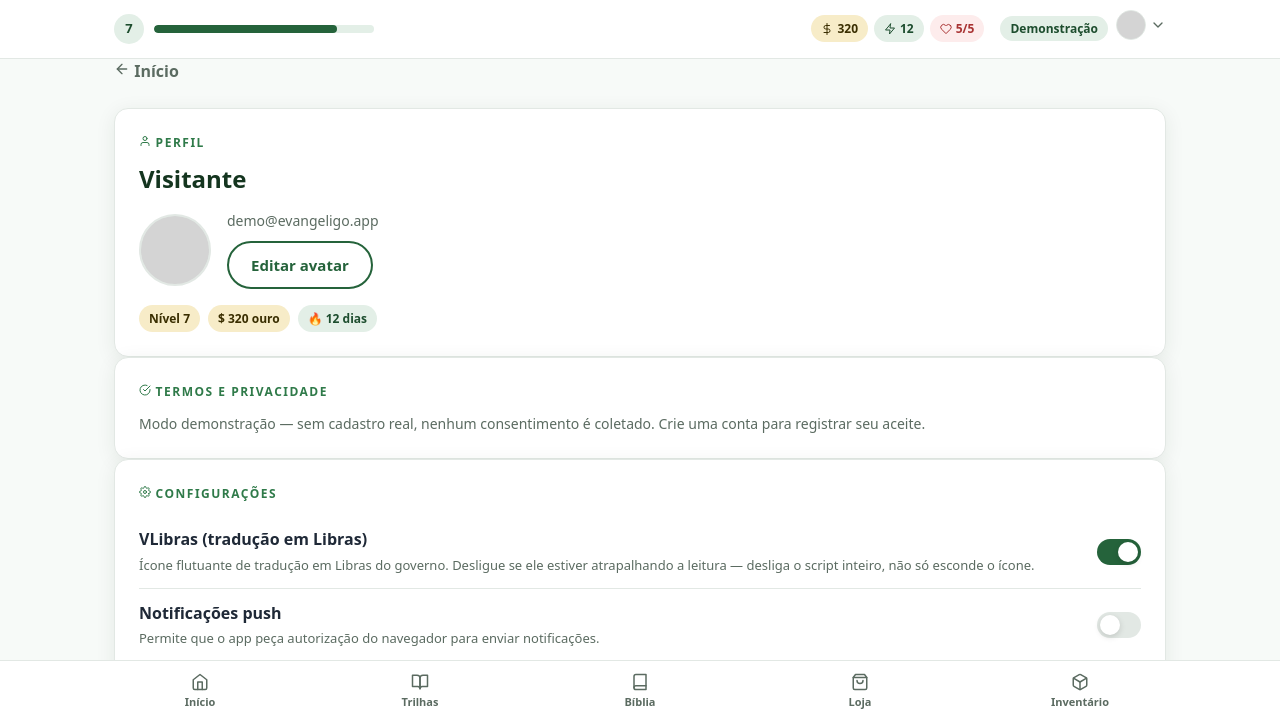
Test: ProfilePage › switch do VLibras › vem ligado por padrão e desliga a preferência salva ao clicar, avisando que precisa recarregar
This screenshot has width=1280, height=720.
Click the switch named "VLibras (tradução em Libras)".
click(1119, 552)  # box [1097, 538, 1141, 564]
(page scrolled)
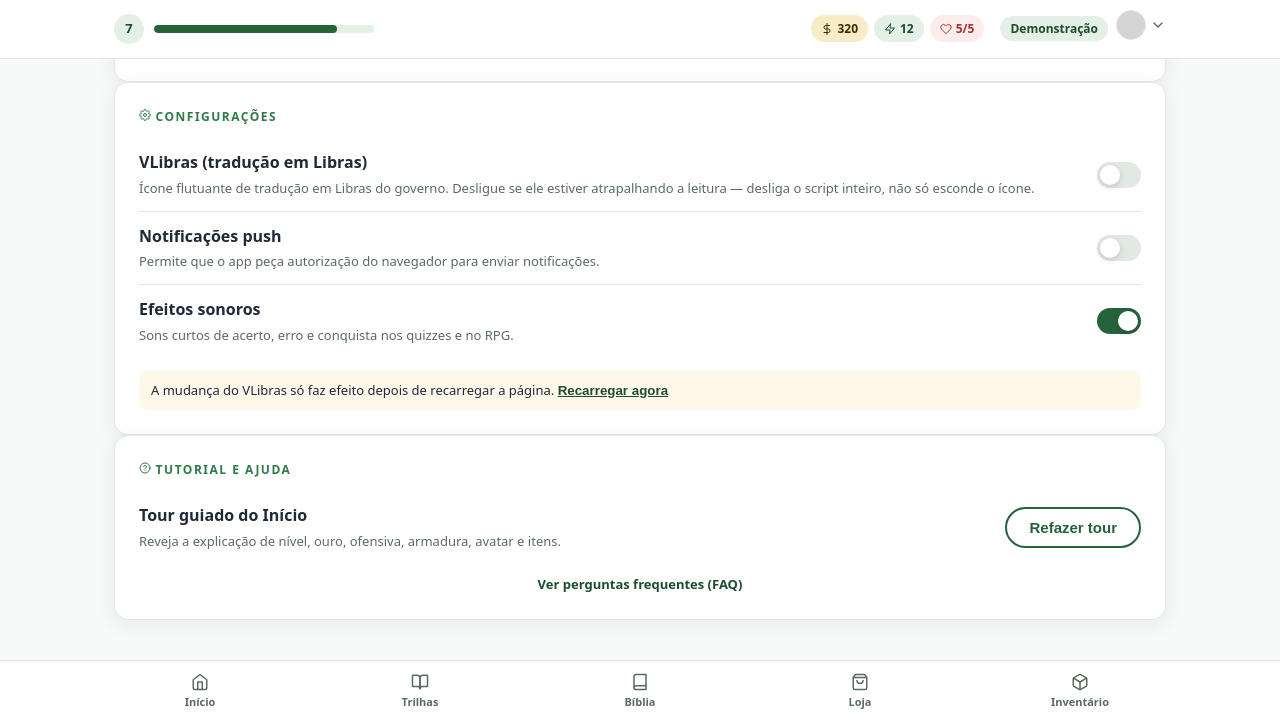
Check: the text "só faz efeito depois de recarregar" is shown, box [151, 380, 554, 398]
